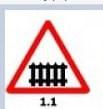road_sign: (7, 21, 90, 93)
